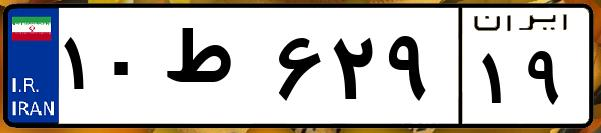0: (110, 28, 158, 98)
1: (57, 26, 110, 100), (475, 38, 525, 113)
2: (330, 28, 385, 110)
6: (270, 28, 330, 110)
9: (385, 28, 445, 110), (525, 38, 570, 115)
ط: (158, 20, 270, 120)
